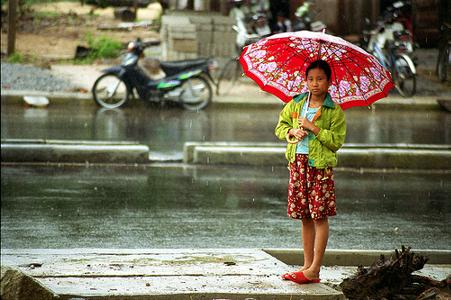person: (276, 59, 348, 284)
